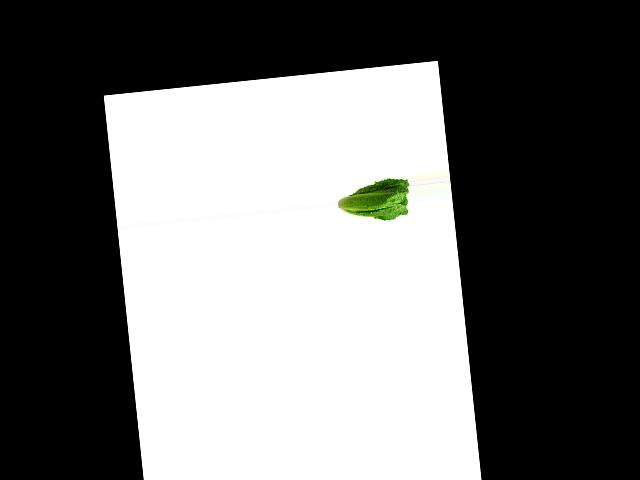lettuce: (336, 174, 413, 230)
